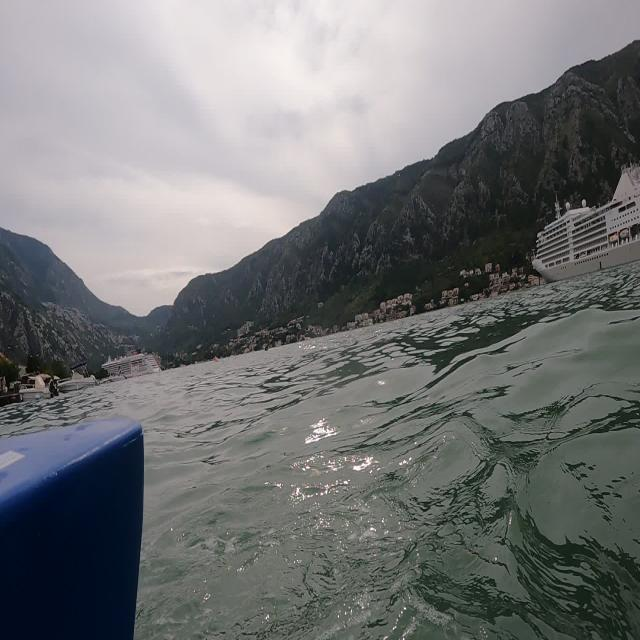boat: (528, 156, 639, 284), (98, 347, 170, 385), (55, 355, 99, 404), (17, 363, 57, 406)
